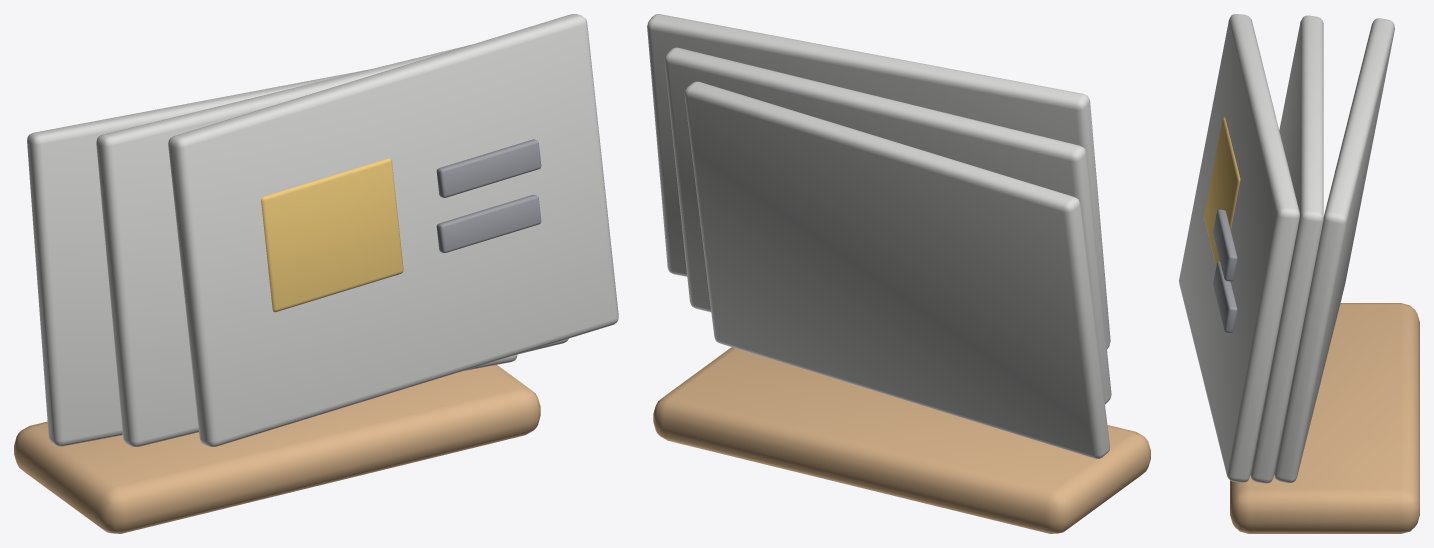
The model's file is links--speakerdeck.glb.
3 views of the same model, side by side, from view 1: azimuth 30°, elevation 25°; view 2: azimuth 150°, elevation 25°; view 3: azimuth 270°, elevation 25° (orthographic). The views are drawn at different scales.
Visible parts, largest first — view 1: links--speakerdeck; view 2: links--speakerdeck; view 3: links--speakerdeck.
Part boxes in pixels (x1,y1,x2,y2): links--speakerdeck: (14,14,618,533); links--speakerdeck: (647,14,1150,533); links--speakerdeck: (1179,14,1419,533).
Bounding box in the file's own units: 0.5835 × 0.4185 × 0.2538.
